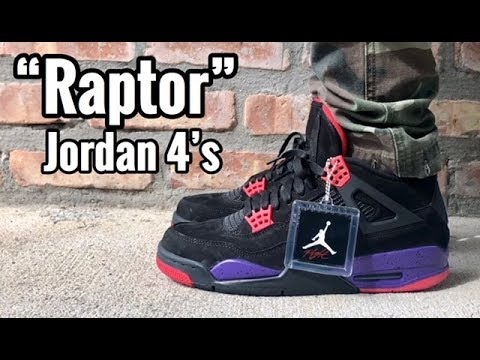Air Jordan 4 Raptors: (154, 103, 459, 296)
